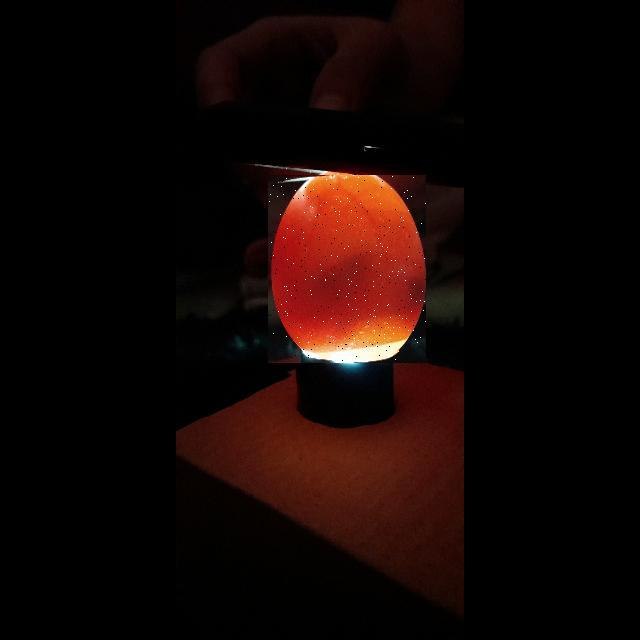Fertile: (268, 175, 426, 363)
